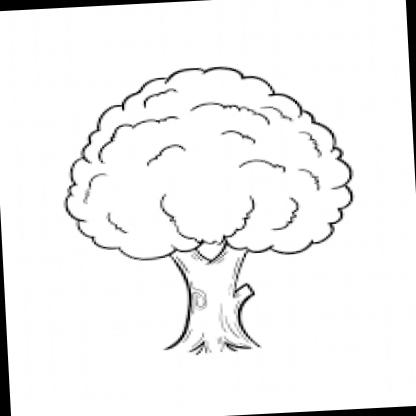branch_cut: (163, 233, 255, 271)
crown_cloud: (54, 57, 358, 268)
trunk_bark: (177, 273, 258, 330)
